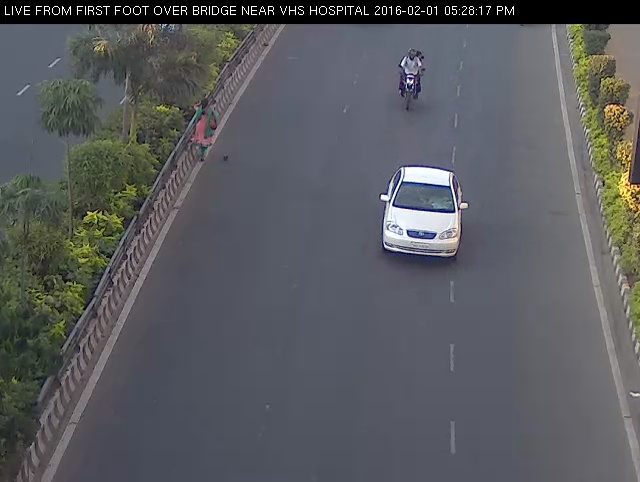Car: (370, 157, 476, 269)
Person: (392, 38, 431, 112), (186, 97, 224, 166)
